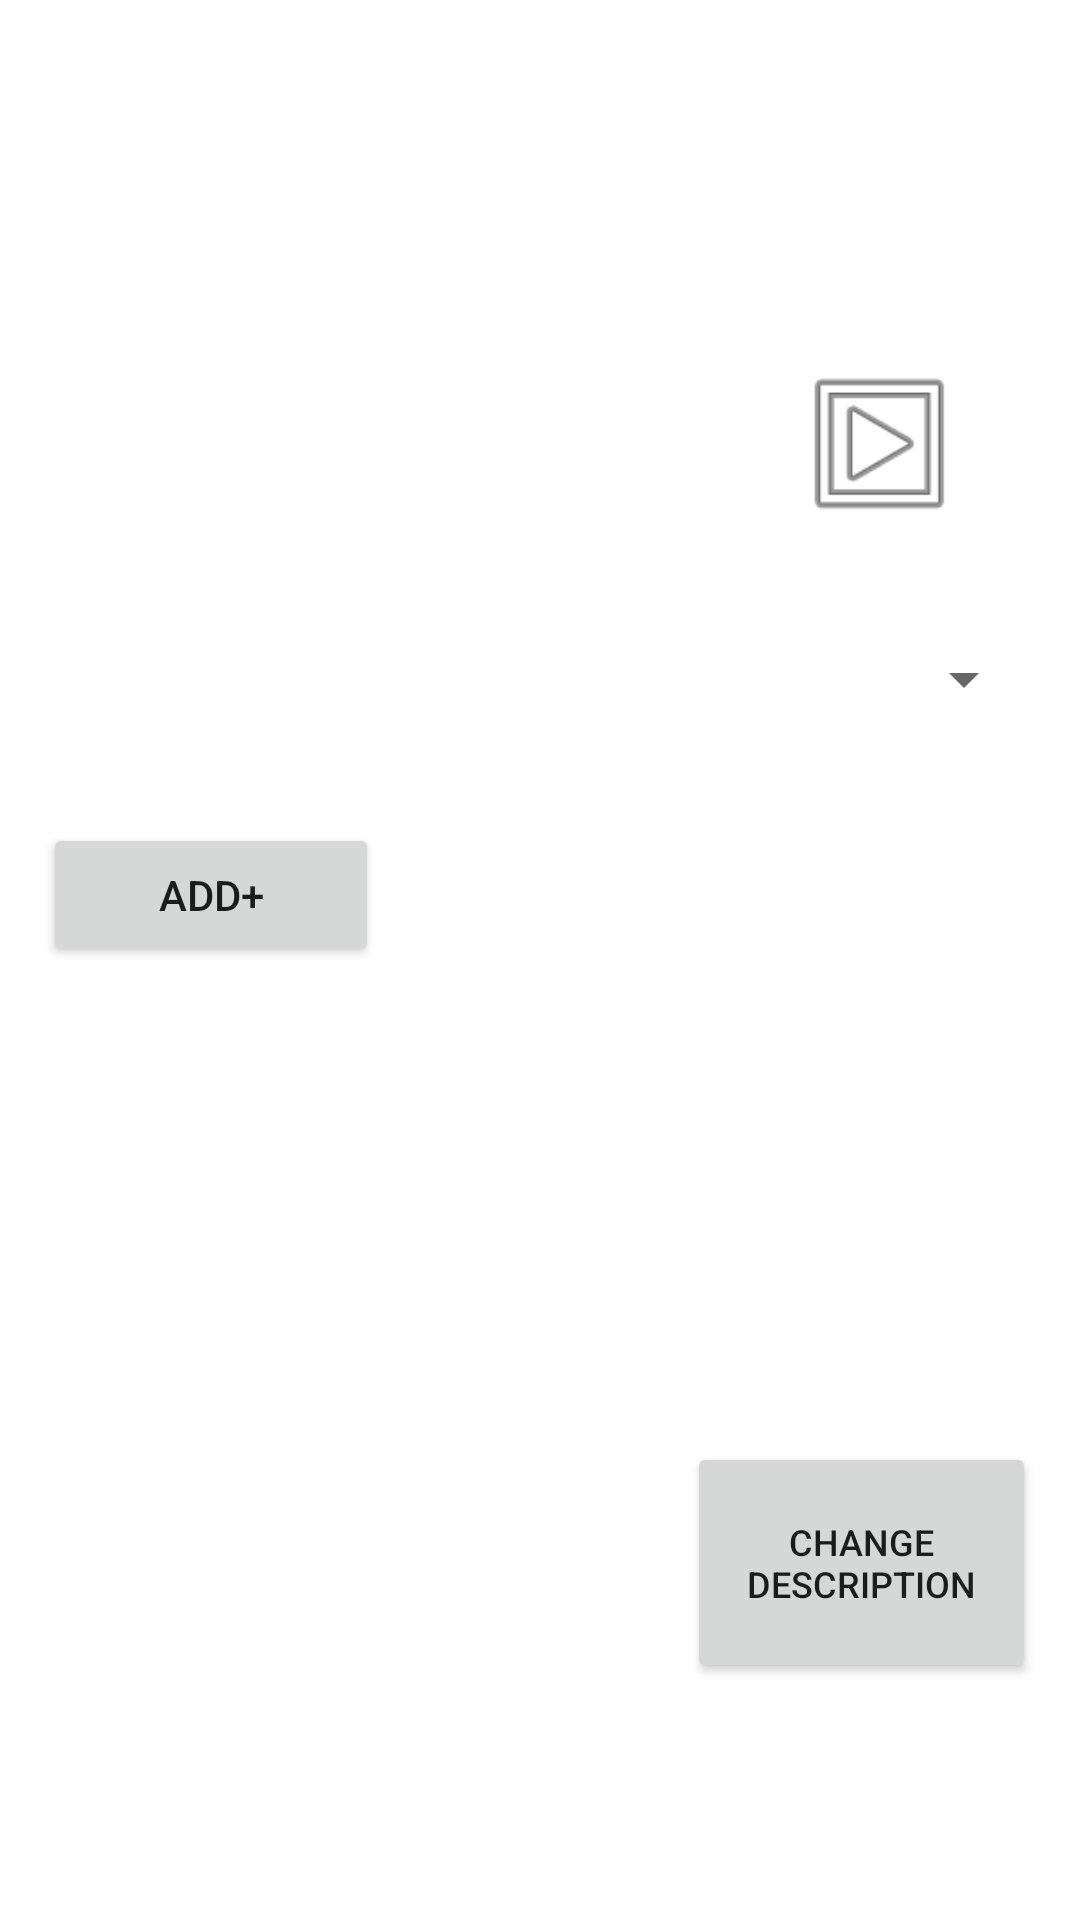

Icons on this 1080w x 1920h Android screen, each with the point to tap as point (x, y):
slideshow: point (879, 443)
